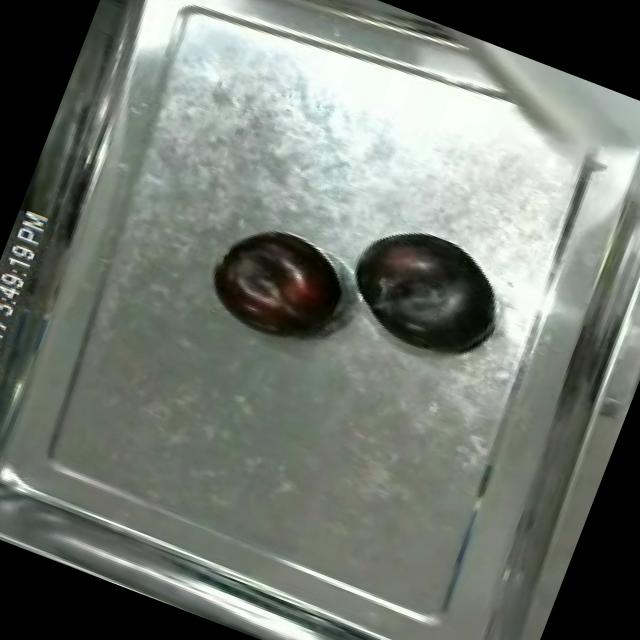Fruit: (333, 210, 521, 377), (193, 213, 361, 362)
